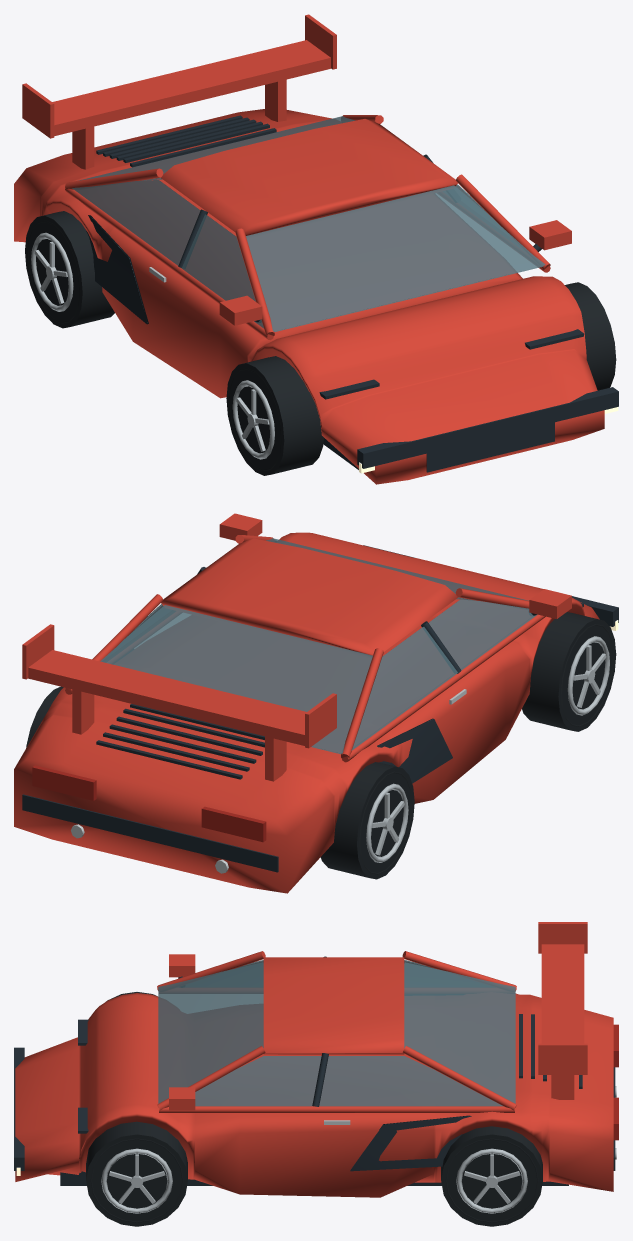
Rendered from rosso.glb.
The picture shows the model from 3 angles, top to bottom: view 1: azimuth 30°, elevation 25°; view 2: azimuth 150°, elevation 25°; view 3: azimuth 270°, elevation 25°; orthographic projection. The views are drawn at different scales.
Visible parts, largest first — view 1: exterior-paint, windows, black-trim, tire-front-left, tire-rear-left, tire-front-right, rim-front-left, rim-rear-left; view 2: exterior-paint, windows, black-trim, tire-front-left, tire-rear-left, taillights, rim-rear-left, rim-front-left; view 3: exterior-paint, windows, tire-front-right, tire-rear-right, black-trim, rim-front-right, rim-rear-right, taillights.
Part boxes in pixels (bbox=[...]): exterior-paint: bbox=[14, 14, 604, 484]; windows: bbox=[72, 116, 545, 331]; black-trim: bbox=[86, 115, 618, 472]; tire-front-left: bbox=[226, 356, 323, 475]; tire-rear-left: bbox=[25, 211, 114, 328]; tire-front-right: bbox=[565, 282, 616, 390]; rim-front-left: bbox=[232, 380, 274, 459]; rim-rear-left: bbox=[31, 232, 73, 311]; exterior-paint: bbox=[14, 513, 599, 893]; windows: bbox=[100, 538, 537, 754]; black-trim: bbox=[22, 545, 618, 872]; tire-front-left: bbox=[522, 612, 616, 731]; tire-rear-left: bbox=[320, 762, 414, 879]; taillights: bbox=[32, 765, 266, 842]; rim-rear-left: bbox=[366, 783, 408, 862]; rim-front-left: bbox=[567, 636, 609, 715]; exterior-paint: bbox=[15, 922, 613, 1197]; windows: bbox=[158, 960, 515, 1106]; tire-front-right: bbox=[86, 1121, 187, 1226]; tire-rear-right: bbox=[441, 1126, 542, 1226]; black-trim: bbox=[14, 956, 615, 1185]; rim-front-right: bbox=[101, 1148, 172, 1213]; rim-rear-right: bbox=[456, 1148, 527, 1213]; taillights: bbox=[613, 1024, 618, 1140].
Size of the model in its own units: 2.11 by 1.15 by 3.68.
